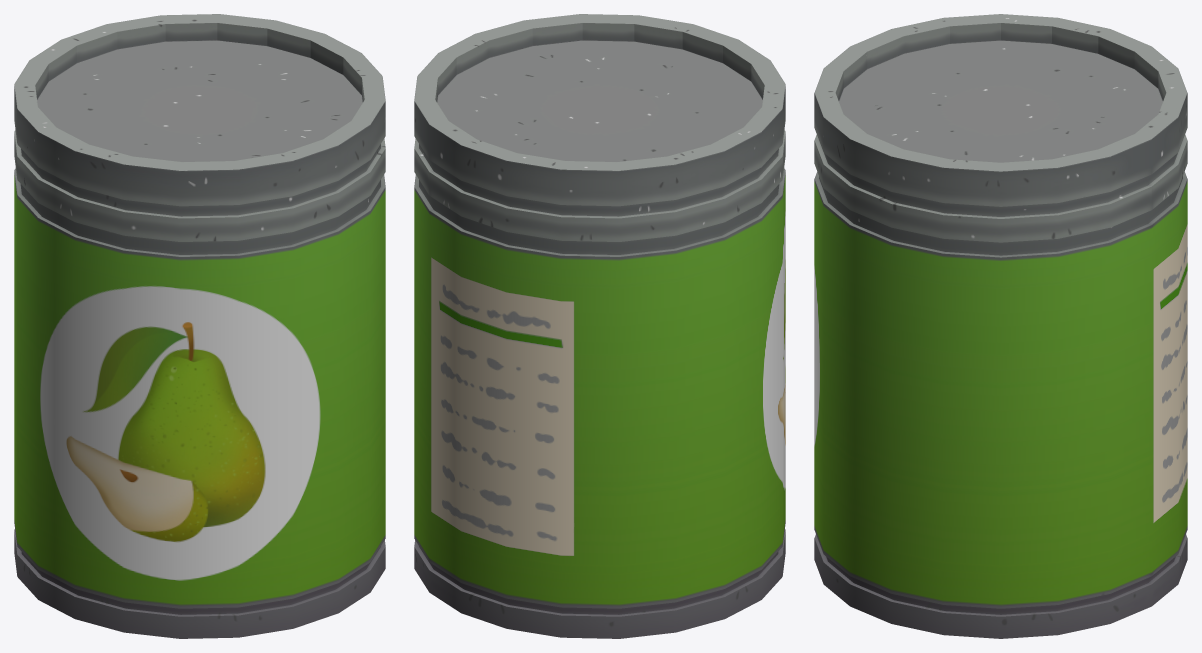
Rendered from Canned_fruit_pear.fbx.
3 renders of one model, left to right at view 1: azimuth 30°, elevation 25°; view 2: azimuth 150°, elevation 25°; view 3: azimuth 270°, elevation 25°, orthographic.
Parts seen in each view (by area): view 1: Canned_fruit; view 2: Canned_fruit; view 3: Canned_fruit.
Boxes of the visible parts, x1,y1,x2,y2 form: Canned_fruit: (14, 14, 385, 638); Canned_fruit: (414, 14, 785, 638); Canned_fruit: (814, 14, 1187, 638).
Size of the model in its own units: 16.31 by 22.55 by 16.31.
1 material, 1 textured.
